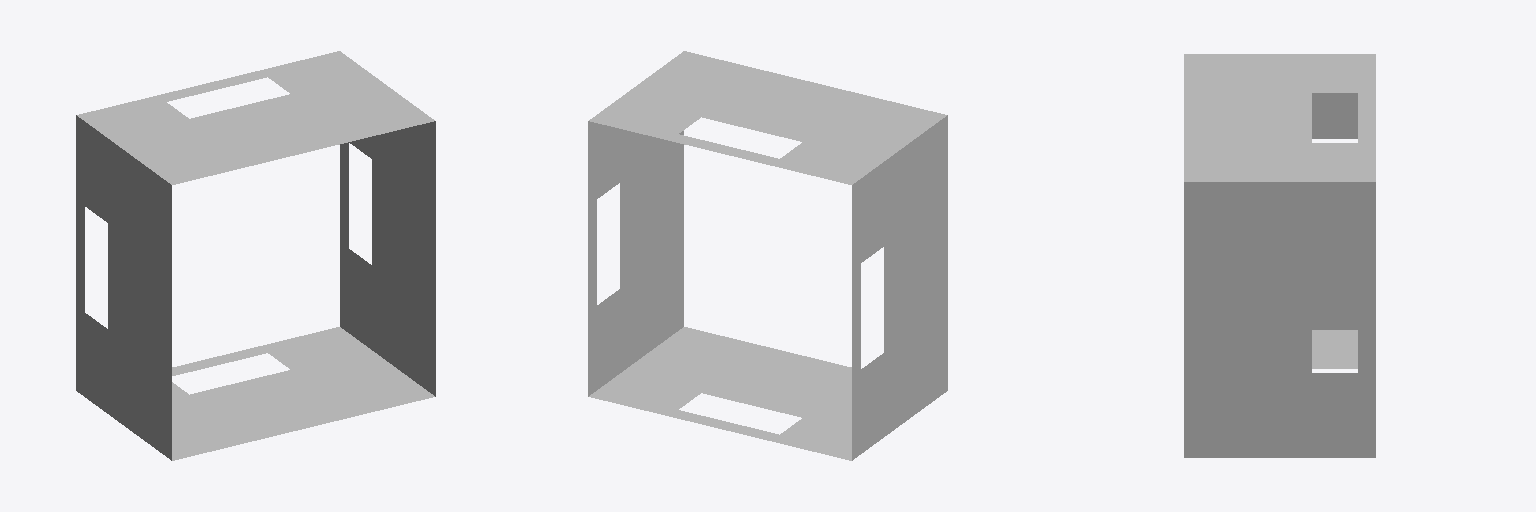
File: basket4.obj
3 renders of one model, left to right at view 1: azimuth 30°, elevation 25°; view 2: azimuth 150°, elevation 25°; view 3: azimuth 270°, elevation 25°, orthographic.
Parts seen in each view (by area): view 1: Cube; view 2: Cube; view 3: Cube.
Boxes of the visible parts, <box> form: Cube: <box>76,51,435,460</box>; Cube: <box>588,51,947,460</box>; Cube: <box>1184,54,1375,457</box>.
Bounding box in the file's own units: 2 × 2 × 1.26.